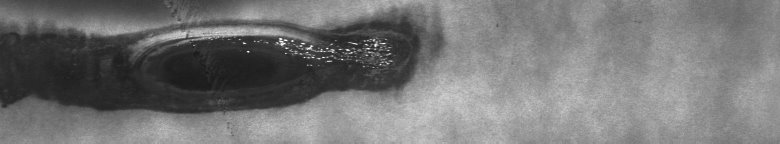ke: (12, 16, 408, 116)
